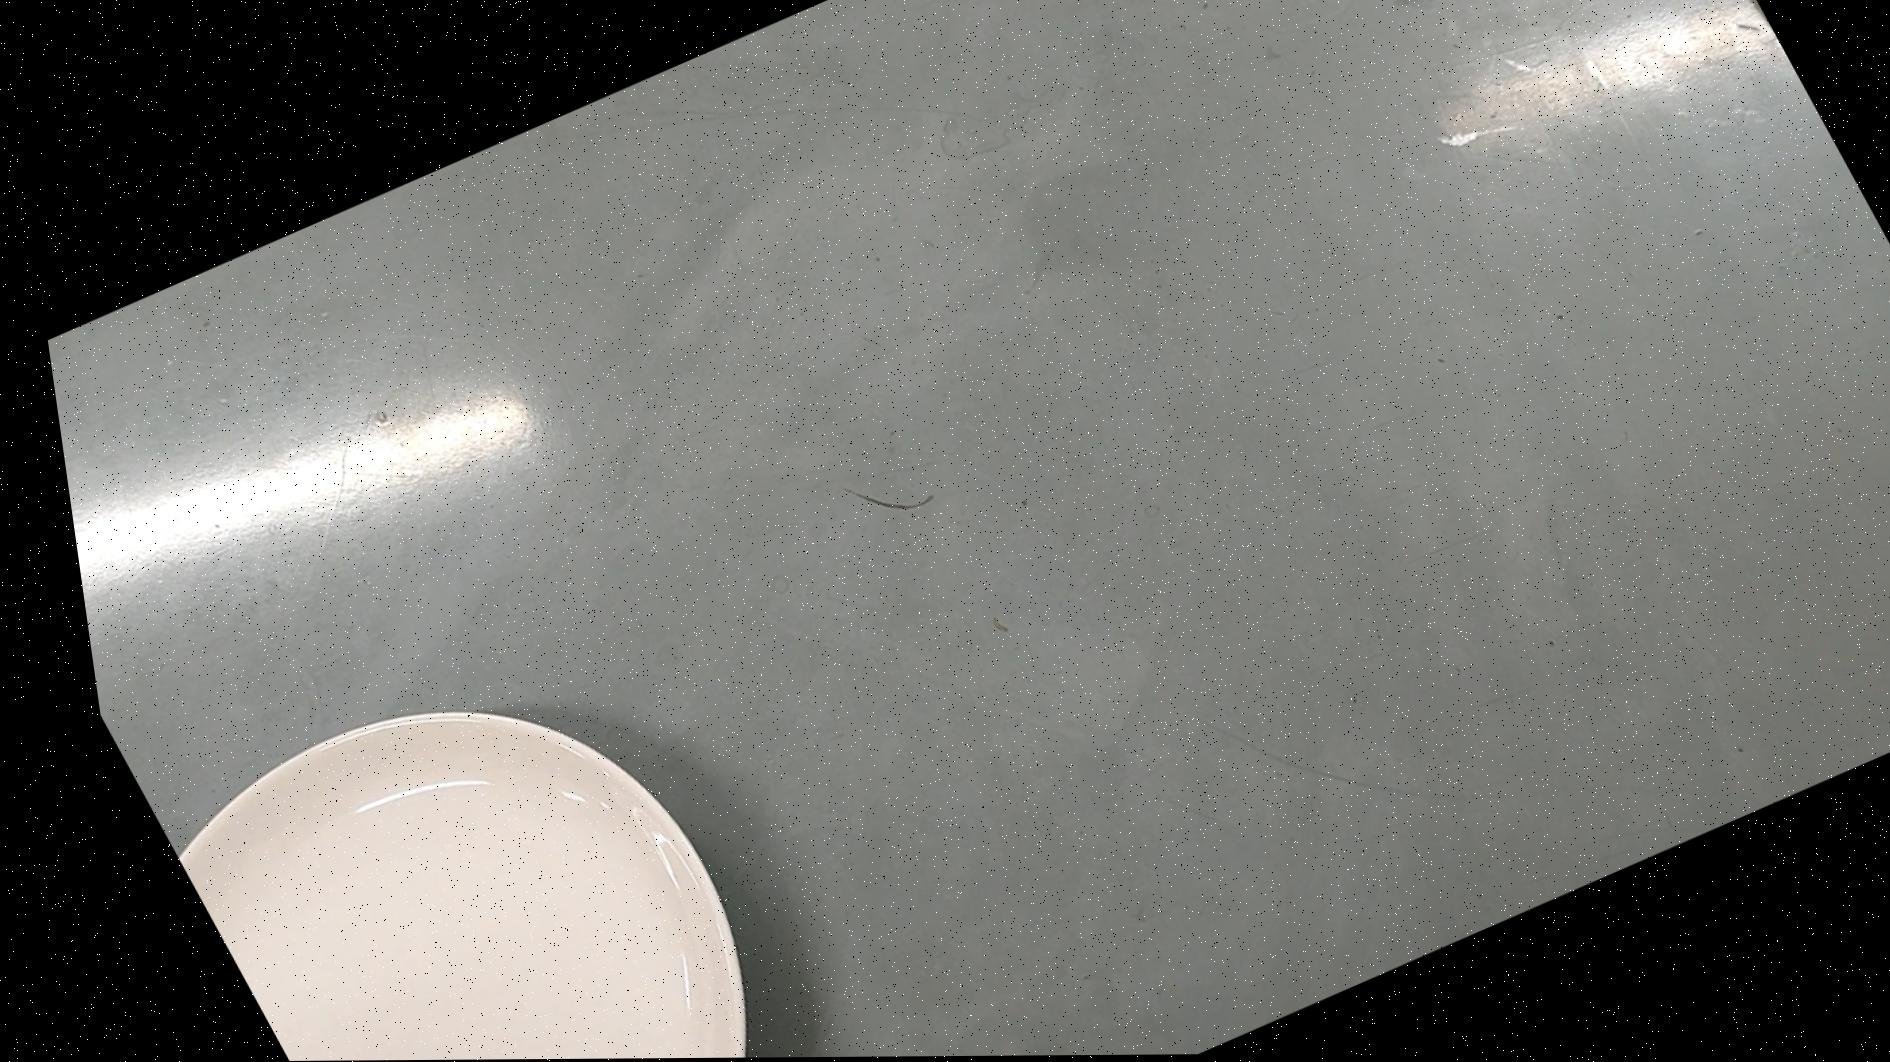plate: (110, 630, 831, 1062)
